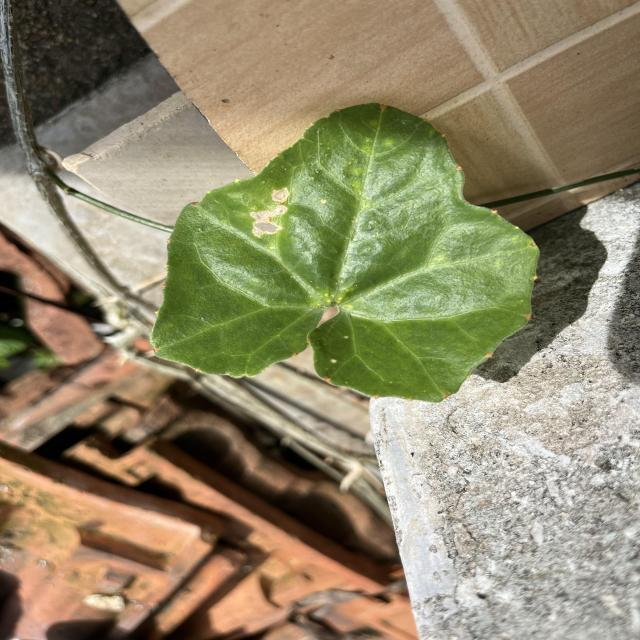Coccinia grandis: (148, 102, 546, 405)
